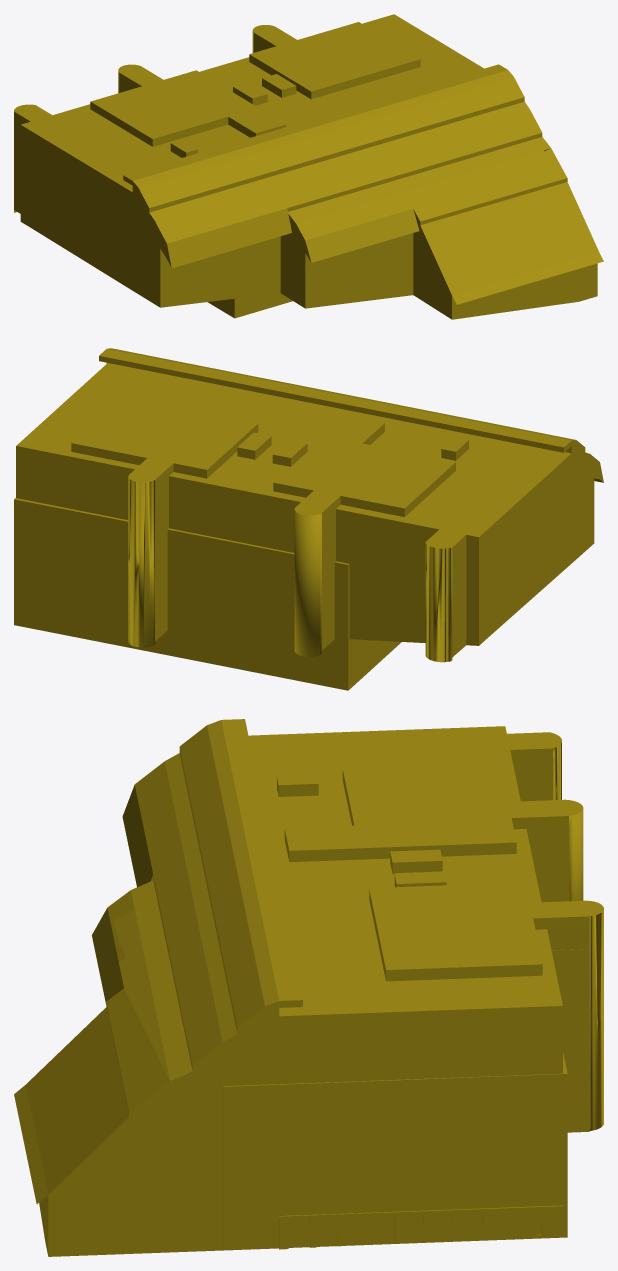
Rendered from Adsetts Center.fbx.
The picture shows the model from 3 angles, top to bottom: view 1: azimuth 30°, elevation 25°; view 2: azimuth 150°, elevation 25°; view 3: azimuth 270°, elevation 25°; orthographic projection. The views are drawn at different scales.
Visible parts, largest first — view 1: Adsetts Centre; view 2: Adsetts Centre; view 3: Adsetts Centre.
Boxes of the visible parts, <box> form: Adsetts Centre: <box>14,14,603,319</box>; Adsetts Centre: <box>14,348,603,690</box>; Adsetts Centre: <box>14,719,603,1256</box>.
Bounding box in the file's own units: 6766 × 2613 × 5616.
